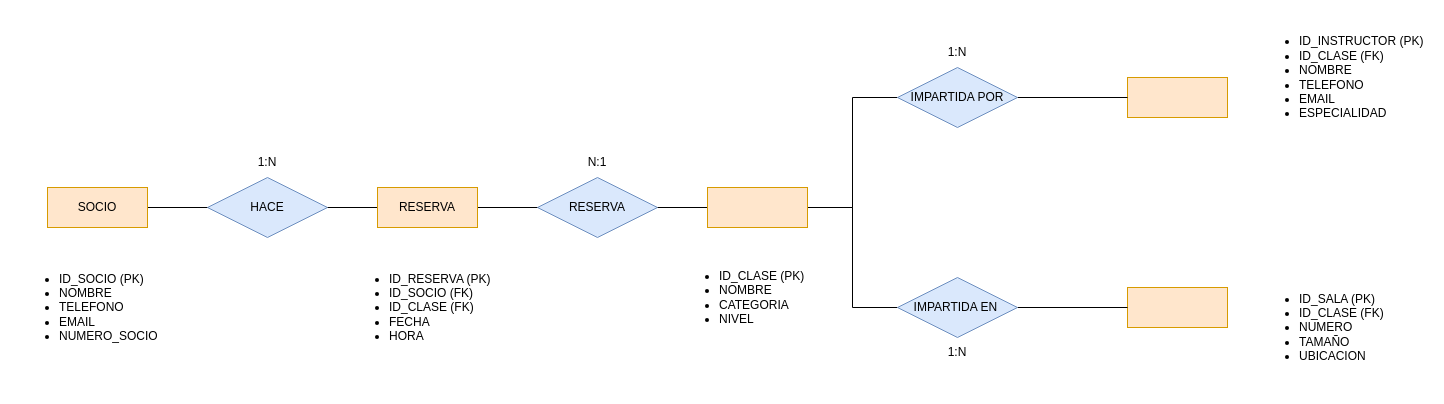
Some shapes in this 1444 by 404 pixel diagram are drawn without their labels. Here are the shapes that lost their labels. From the top down, the box of each, then its label:
(1126, 76, 1228, 118): INSTRUCTOR
(706, 186, 808, 228): CLASE
(1126, 286, 1228, 328): SALA
